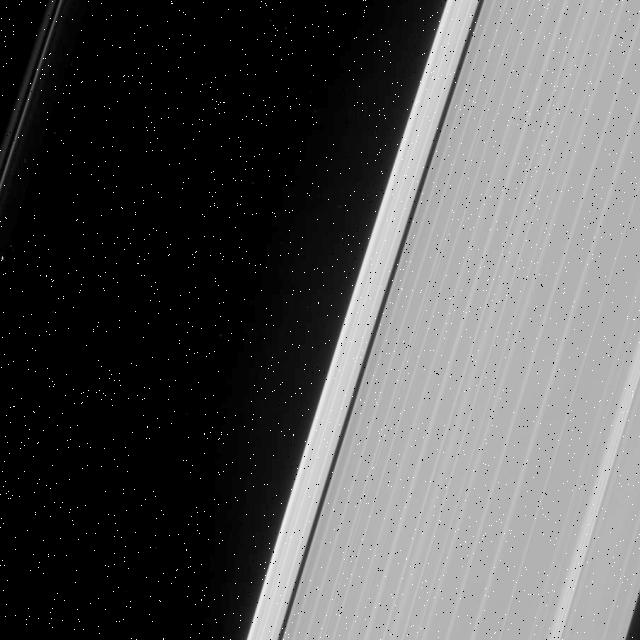Saturn: (233, 0, 640, 640)
